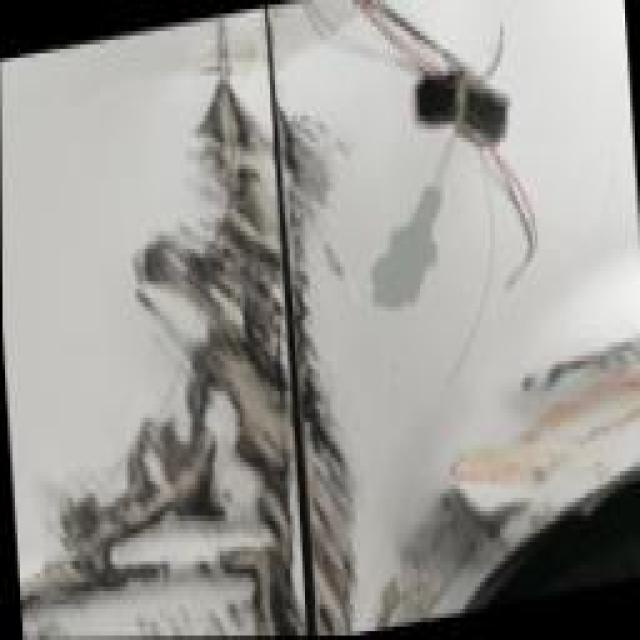Door: (0, 4, 302, 639)
Fender: (268, 0, 640, 593)
